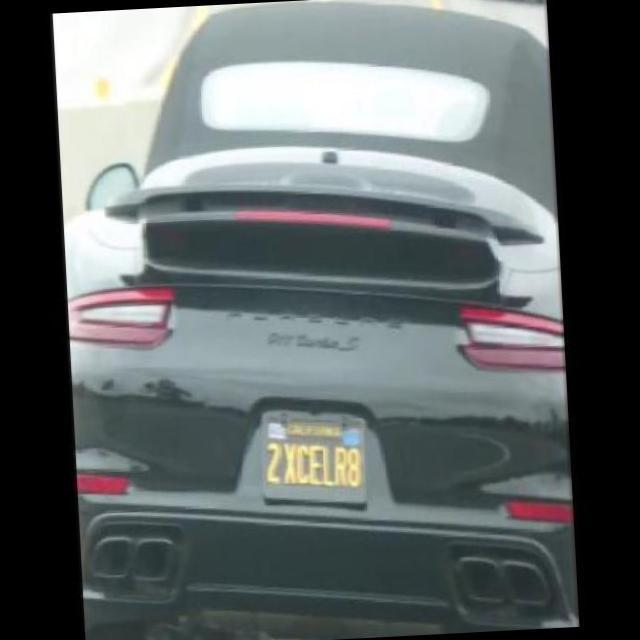License Plate: (260, 408, 368, 502)
